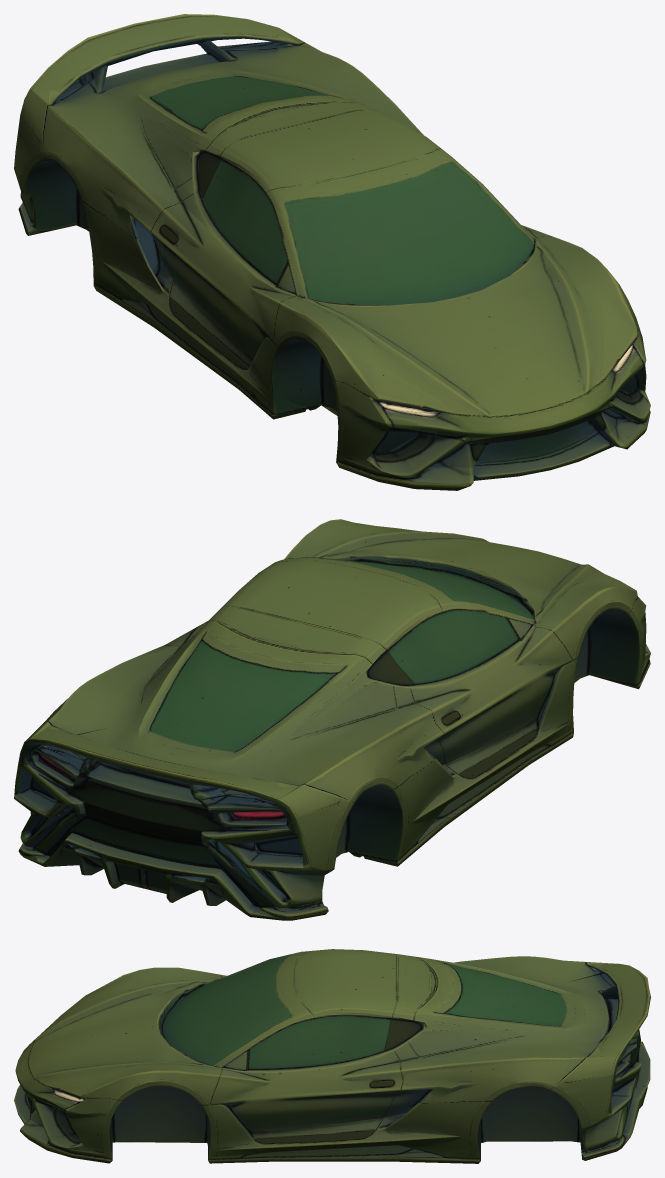
The model's file is 7_Car7.glb.
3 renders of one model, top to bottom at view 1: azimuth 30°, elevation 25°; view 2: azimuth 150°, elevation 25°; view 3: azimuth 270°, elevation 25°, orthographic. The views are drawn at different scales.
Parts seen in each view (by area): view 1: part_0000; view 2: part_0000; view 3: part_0000.
Part boxes in pixels (x1,y1,x2,y2): part_0000: (14,14,650,490); part_0000: (14,519,650,920); part_0000: (14,949,650,1163).
Bounding box in the file's own units: 1.98 × 1.06 × 4.56.
1 material, 1 textured.
